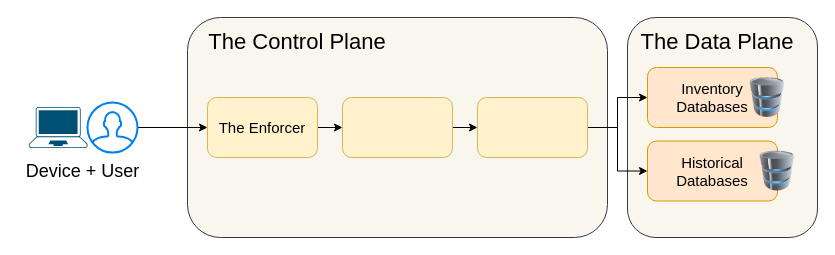
The diagram is 835 pixels wide and 255 high, and some of its shapes have lost their labels. Each missing label, with the centre of its shape:
"The Policy Engine" goes at (x=397, y=127).
"The Trust Score" goes at (x=532, y=127).
